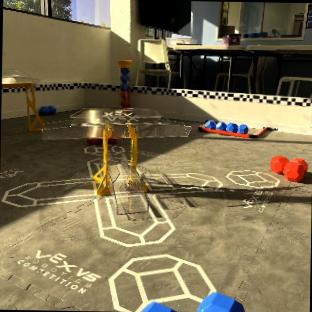Goal: (1, 70, 42, 130)
Med_goal: (43, 107, 190, 195)
Parking-R: (198, 126, 272, 137)
V5_BLUE: (196, 291, 244, 312), (205, 119, 247, 132), (39, 105, 55, 115)
V5_RED: (270, 156, 308, 181), (86, 137, 102, 143), (109, 136, 117, 142)
